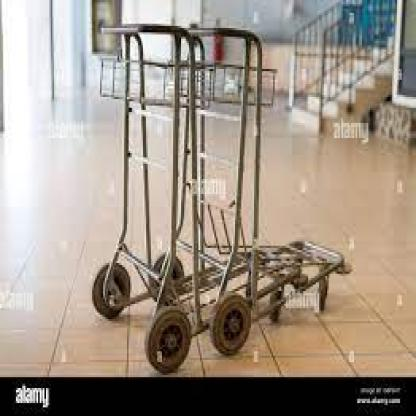airport-trolley: (182, 19, 342, 360), (82, 12, 210, 368)
